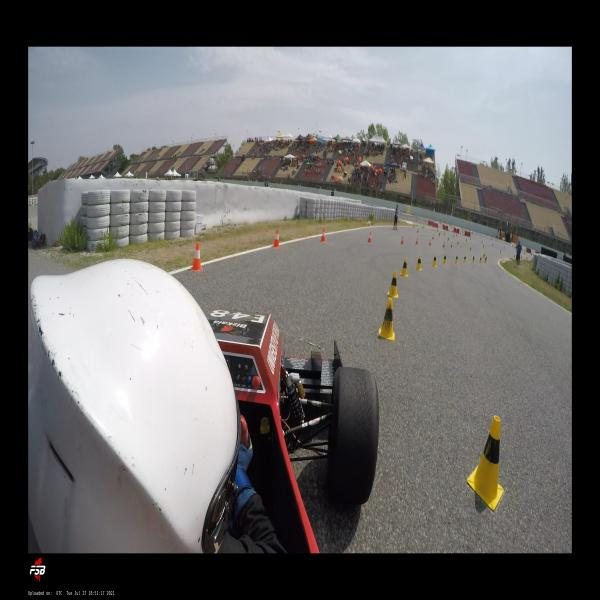orange_cone: (190, 243, 203, 271), (273, 230, 280, 248), (320, 228, 326, 242), (367, 232, 372, 243), (401, 236, 404, 244), (442, 241, 445, 248), (429, 239, 432, 246), (415, 238, 418, 245), (450, 241, 452, 248), (432, 234, 434, 240), (372, 221, 374, 226), (416, 228, 418, 233), (360, 218, 361, 222)
yellow_cone: (466, 415, 504, 511), (378, 298, 396, 340), (386, 271, 398, 298), (400, 258, 408, 277), (415, 254, 422, 271), (431, 254, 437, 267), (442, 254, 446, 264), (455, 255, 458, 264), (463, 256, 466, 264), (438, 232, 441, 238), (479, 257, 482, 263), (484, 258, 487, 264), (472, 255, 474, 263), (465, 238, 468, 243), (470, 245, 472, 252), (456, 240, 458, 246), (447, 237, 449, 242), (483, 253, 485, 258), (453, 234, 455, 238), (443, 232, 445, 236), (486, 256, 487, 262)
